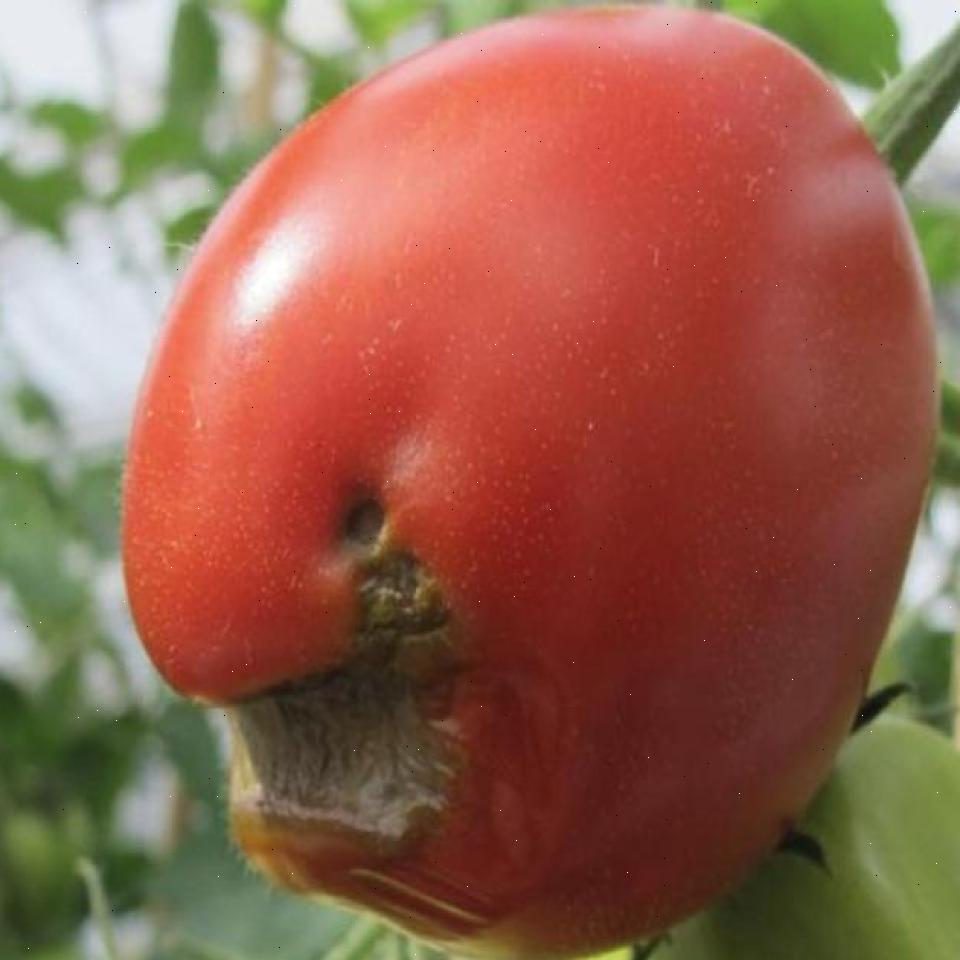Blossom_end_rot: (168, 479, 544, 897)
